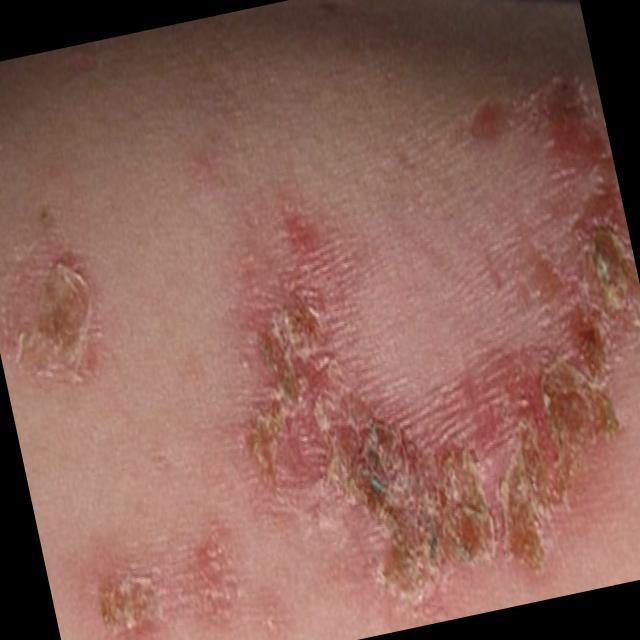Eczema: (217, 74, 635, 594), (92, 532, 252, 640), (8, 246, 104, 386)
